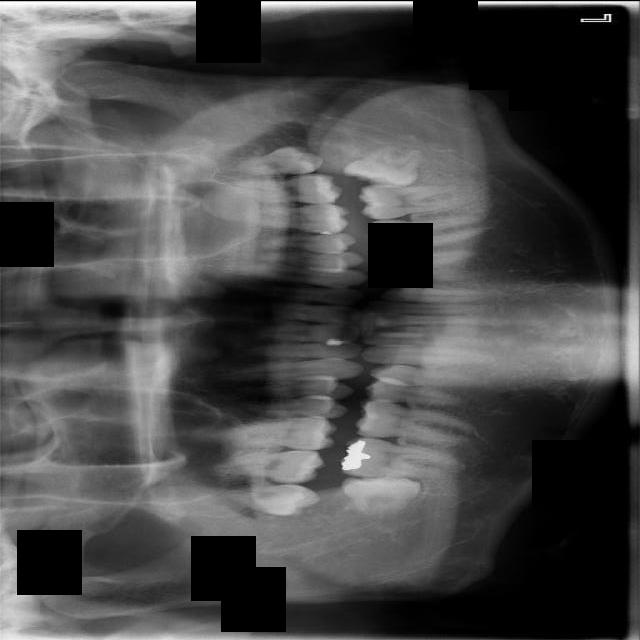3M ESPE Implant: (188, 484, 320, 515)
52: (338, 431, 394, 481), (294, 201, 349, 234), (310, 323, 362, 342), (311, 341, 363, 359)
73: (608, 10, 621, 20)
BioHorizons Implant: (214, 174, 344, 202)
BioLife Implant: (229, 143, 324, 176)
Biomet 3i Implant: (341, 136, 425, 193)
Blue Sky Bio Implant: (358, 180, 468, 219)
Caries: (202, 448, 326, 485)
Implant: (338, 435, 460, 482)
Keystone Dental Implant: (342, 473, 422, 519)
